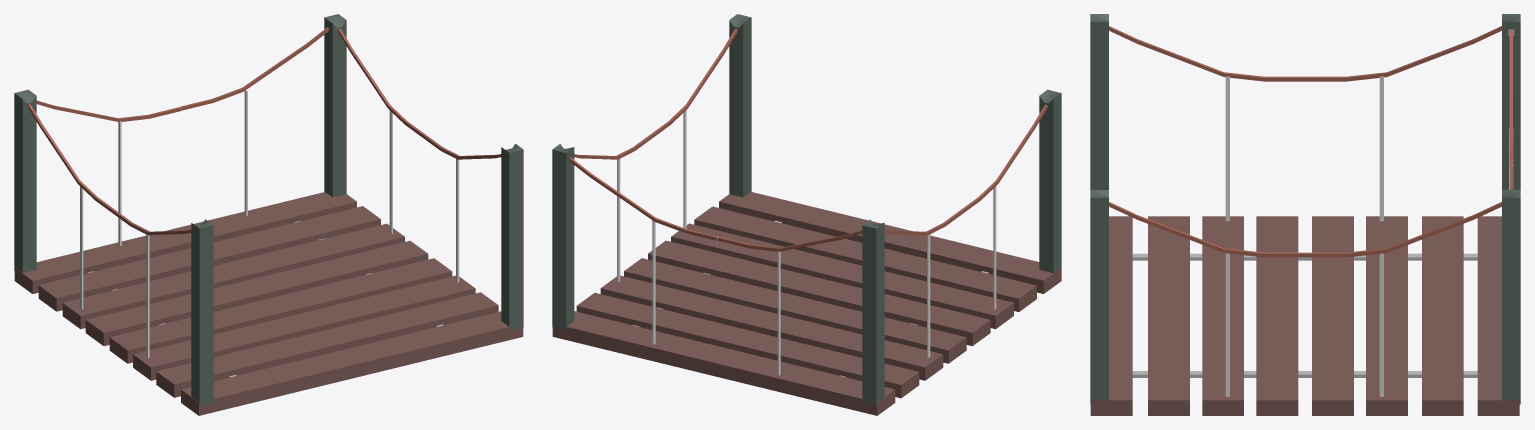
Rendered from lift.fbx.
3 renders of one model, left to right at view 1: azimuth 30°, elevation 25°; view 2: azimuth 150°, elevation 25°; view 3: azimuth 270°, elevation 25°, orthographic. The views are drawn at different scales.
Visible parts, largest first — view 1: pCube30; view 2: pCube30; view 3: pCube30.
Boxes of the visible parts, x1=… form: pCube30: x1=14, y1=14, x2=523, y2=415; pCube30: x1=552, y1=14, x2=1061, y2=415; pCube30: x1=1090, y1=14, x2=1520, y2=415.
Size of the model in its own units: 5.17 by 2.86 by 5.11.
